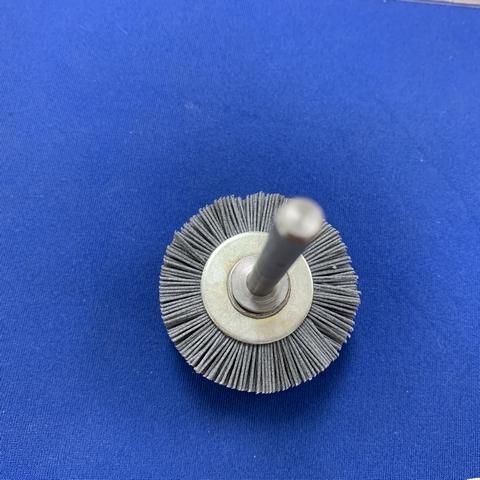Wheel Brush: (157, 185, 379, 394), (149, 183, 346, 392), (182, 194, 384, 383)
